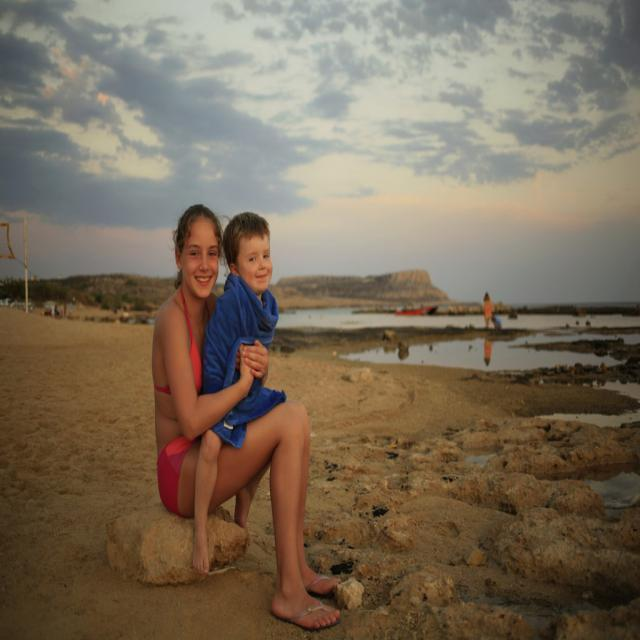closed-mouth: (255, 270, 271, 283)
